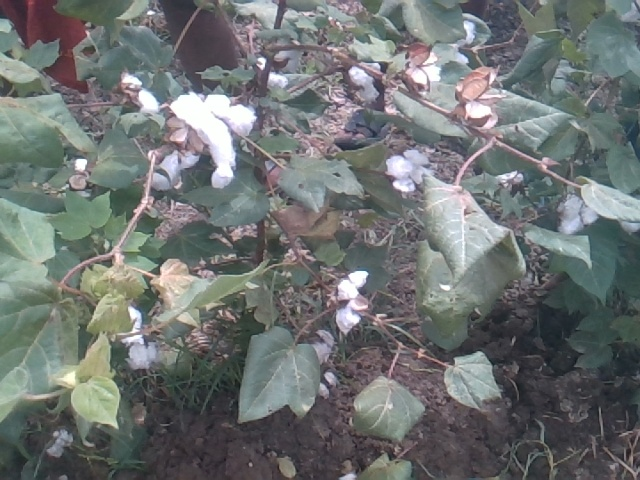cotton: (169, 90, 237, 188), (208, 88, 259, 139), (383, 148, 431, 197), (337, 267, 370, 335), (116, 74, 162, 116), (346, 59, 385, 105), (109, 305, 150, 336), (303, 328, 339, 360), (127, 339, 164, 370)
